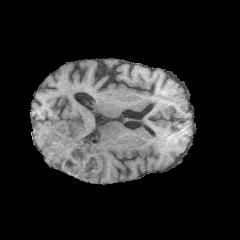glioma: (43, 129, 104, 180)
